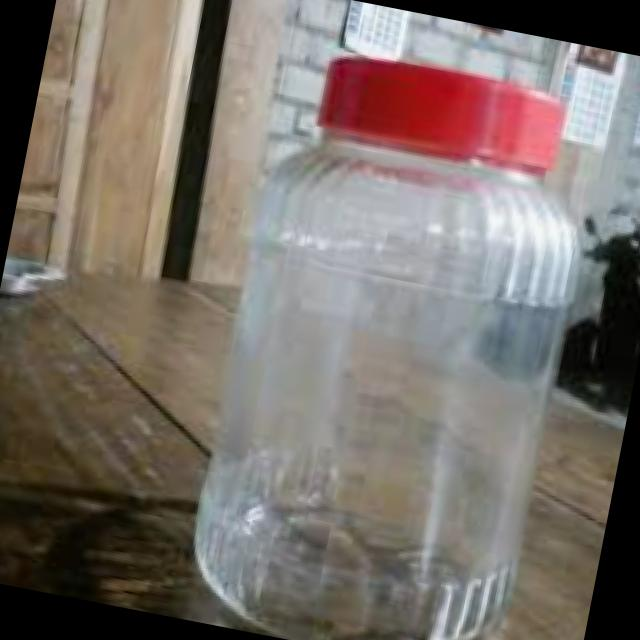ToplesKaca: (172, 32, 615, 640)
